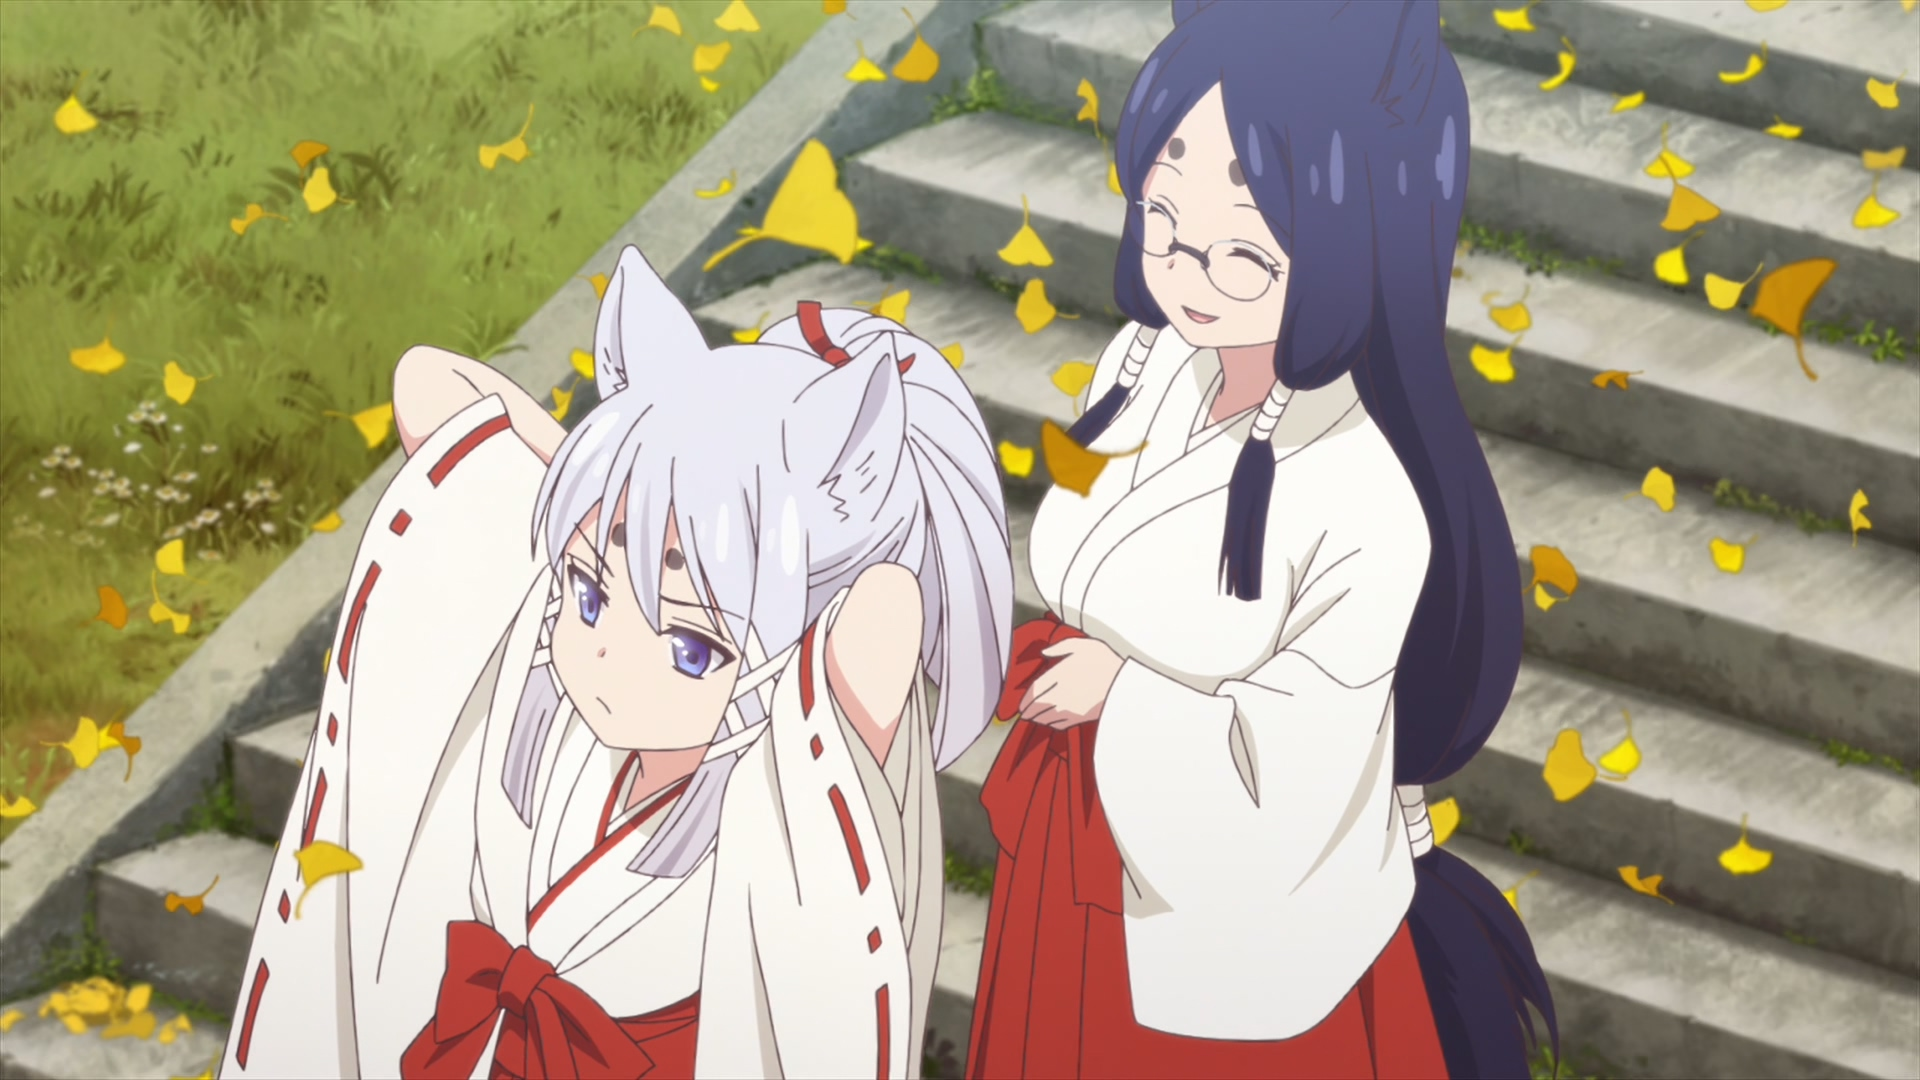柊: (216, 245, 1015, 1080)
菖: (963, 1, 1561, 1080)
